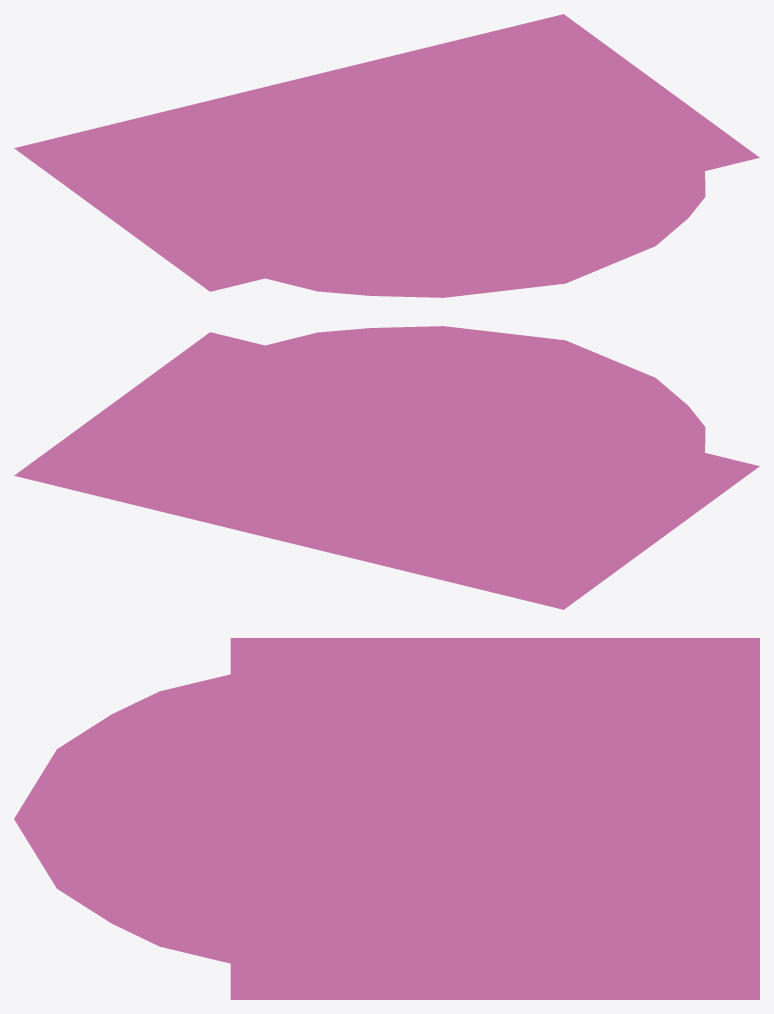
Rendered from S_Ceiling.fbx.
3 views of the same model, one above another, from view 1: azimuth 30°, elevation 25°; view 2: azimuth 150°, elevation 25°; view 3: azimuth 270°, elevation 25° (orthographic). The views are drawn at different scales.
Parts seen in each view (by area): view 1: S_Ceiling; view 2: S_Ceiling; view 3: S_Ceiling.
Part boxes in pixels (x1,y1,x2,y2): S_Ceiling: (14,14,759,297); S_Ceiling: (14,326,759,609); S_Ceiling: (14,638,759,999).
Size of the model in its own units: 1524 by 0 by 1329.
